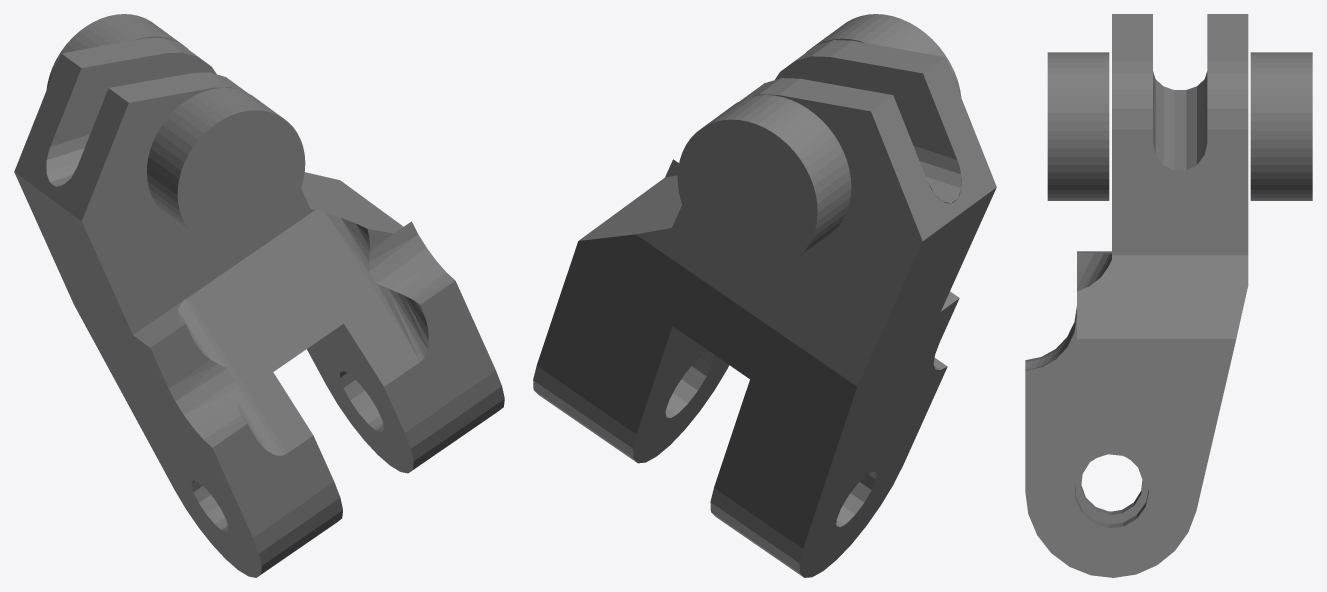
The model's file is lh_thumb_metacarpals_base1_vis.obj.
The picture shows the model from 3 angles, left to right: view 1: azimuth 30°, elevation 25°; view 2: azimuth 150°, elevation 25°; view 3: azimuth 270°, elevation 25°; orthographic projection. The views are drawn at different scales.
Parts seen in each view (by area): view 1: lh_thumb_metacarpals_base1; view 2: lh_thumb_metacarpals_base1; view 3: lh_thumb_metacarpals_base1.
Boxes of the visible parts, x1,y1,x2,y2 form: lh_thumb_metacarpals_base1: (14,14,504,577); lh_thumb_metacarpals_base1: (533,14,996,577); lh_thumb_metacarpals_base1: (1025,14,1312,577).
Bounding box in the file's own units: 0.0188 × 0.0222 × 0.0116.
Materials: 1 (1 with a texture image).
